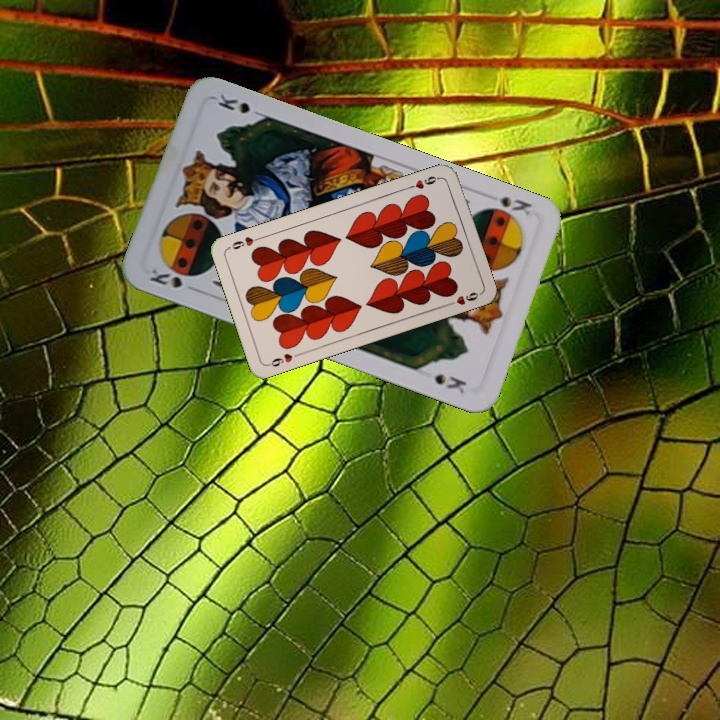H9: (403, 172, 443, 192), (264, 349, 303, 369)
SK: (145, 264, 201, 295), (495, 192, 535, 218)
